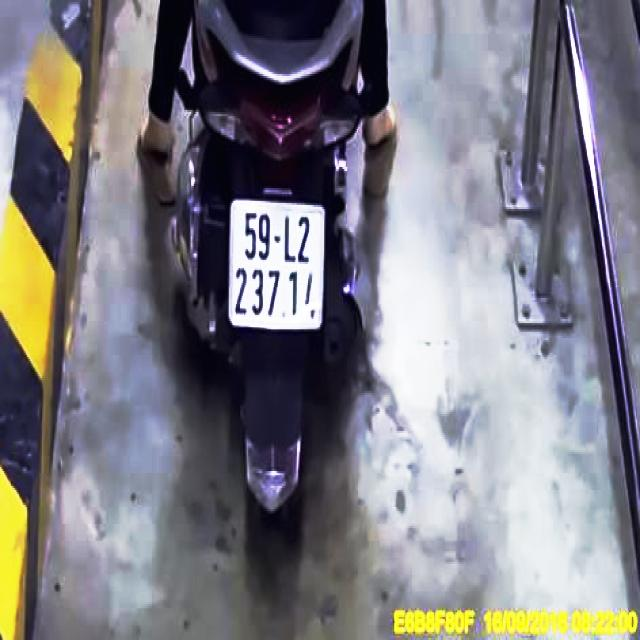license_plate: (231, 202, 324, 325)
